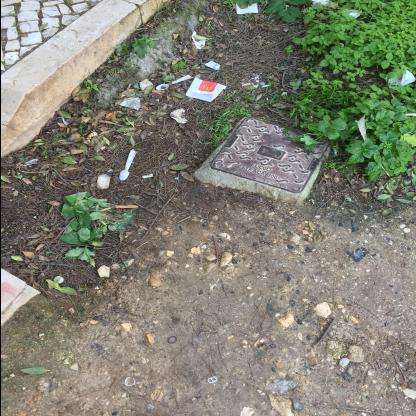kagit: (186, 79, 228, 103), (236, 4, 259, 16), (205, 62, 221, 72)
plastik: (156, 76, 192, 92), (120, 151, 138, 182)
